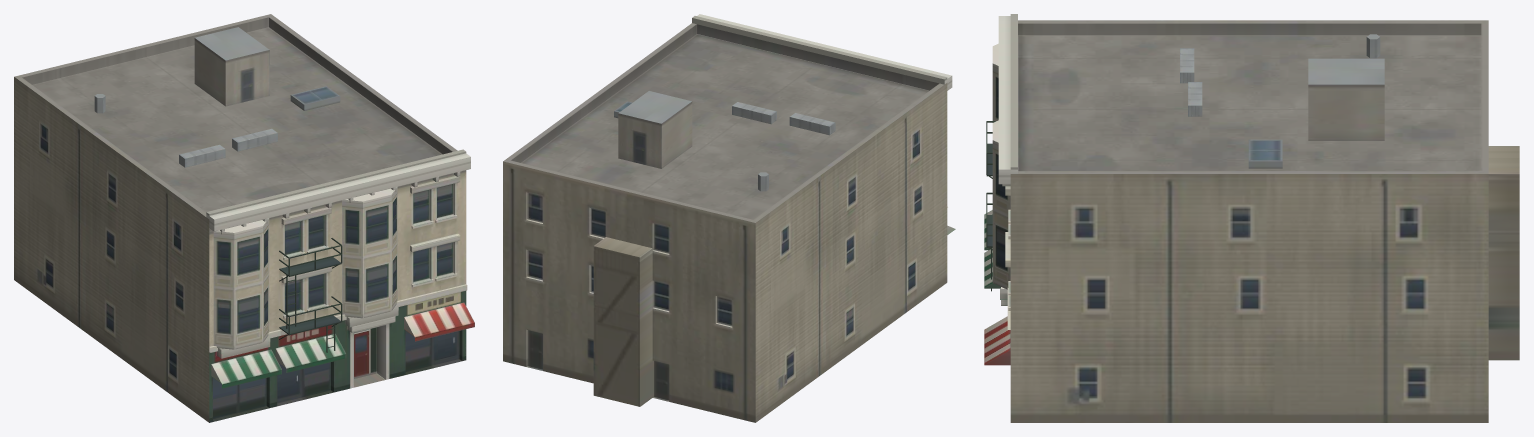
File: sf_victorian_f.glb
3 renders of one model, left to right at view 1: azimuth 30°, elevation 25°; view 2: azimuth 150°, elevation 25°; view 3: azimuth 270°, elevation 25°, orthographic. The views are drawn at different scales.
Parts seen in each view (by area): view 1: sf_victorian_f; view 2: sf_victorian_f; view 3: sf_victorian_f.
Boxes of the visible parts, left/top/right/bottom form: sf_victorian_f: left=14, top=14, right=474, bottom=422; sf_victorian_f: left=503, top=14, right=955, bottom=422; sf_victorian_f: left=984, top=14, right=1519, bottom=422.
Bounding box in the file's own units: 15.2 × 13.55 × 22.4.
1 material, 1 textured.
